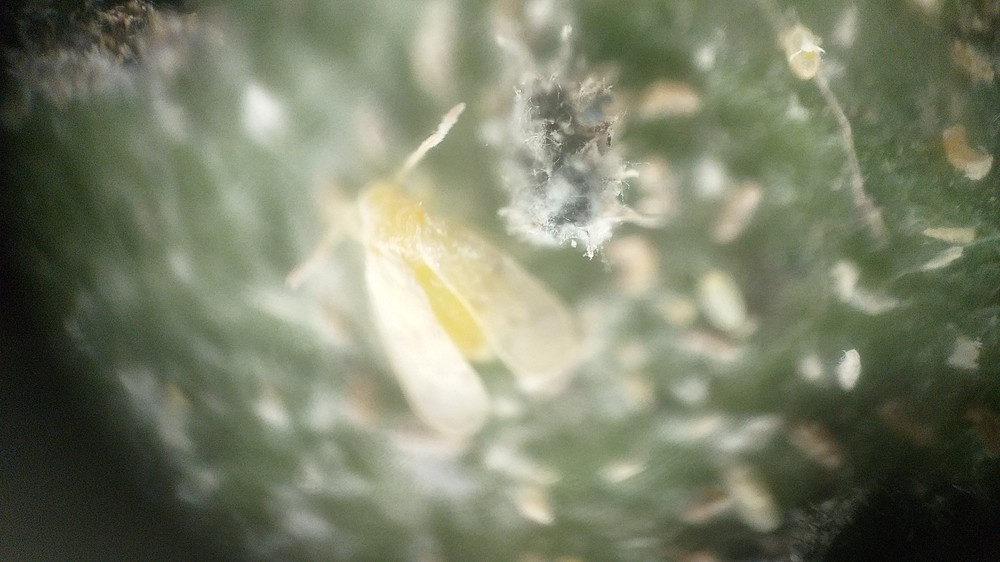Mosca Blanca: (273, 105, 609, 450)
